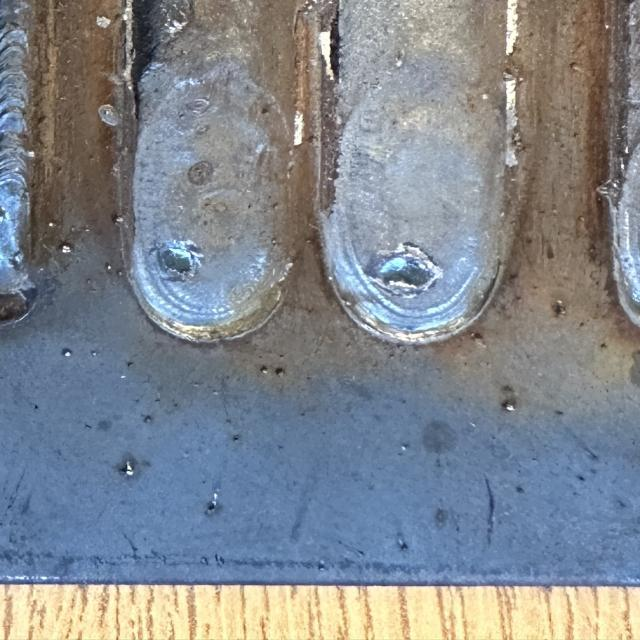Spatters: (98, 104, 120, 126), (205, 492, 218, 514), (552, 300, 567, 316), (95, 16, 112, 29), (112, 213, 125, 225), (125, 461, 133, 476), (62, 245, 72, 254), (275, 368, 285, 376), (62, 349, 72, 356), (505, 404, 515, 411), (260, 366, 268, 374), (402, 445, 407, 449)
